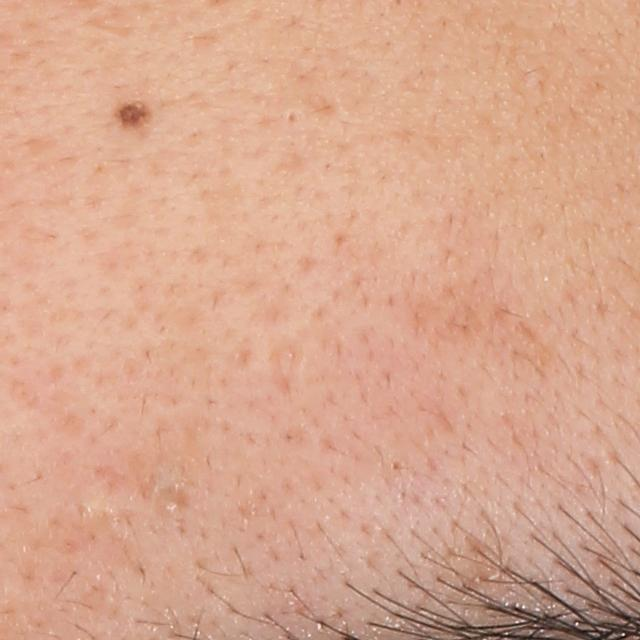atrophic_scar: (265, 339, 300, 391)
comedo: (158, 490, 187, 520), (278, 104, 306, 124)
nevus: (109, 97, 157, 130)
